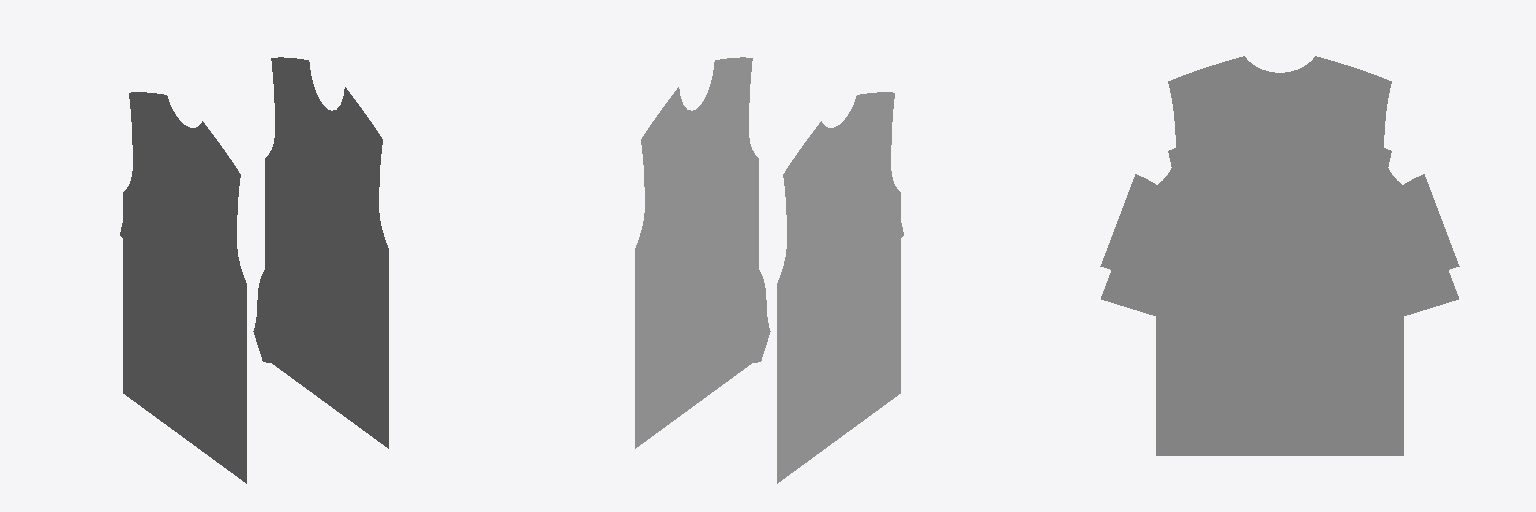
The model's file is tShirt.obj.
The picture shows the model from 3 angles: view 1: azimuth 30°, elevation 25°; view 2: azimuth 150°, elevation 25°; view 3: azimuth 270°, elevation 25°; orthographic projection.
Parts seen in each view (by area): view 1: BaseMesh_2.5k~10k_Plane.006; view 2: BaseMesh_2.5k~10k_Plane.006; view 3: BaseMesh_2.5k~10k_Plane.006.
Boxes of the visible parts, <box> form: BaseMesh_2.5k~10k_Plane.006: <box>120,57,388,483</box>; BaseMesh_2.5k~10k_Plane.006: <box>635,57,903,483</box>; BaseMesh_2.5k~10k_Plane.006: <box>1100,56,1459,455</box>.
Bounding box in the file's own units: 0.3282 × 0.7288 × 0.7176.